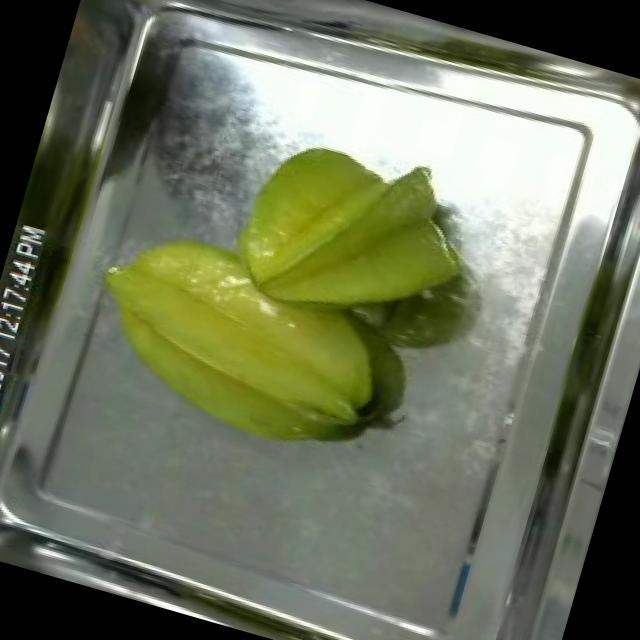fruit: (56, 200, 422, 485), (210, 112, 500, 362)
